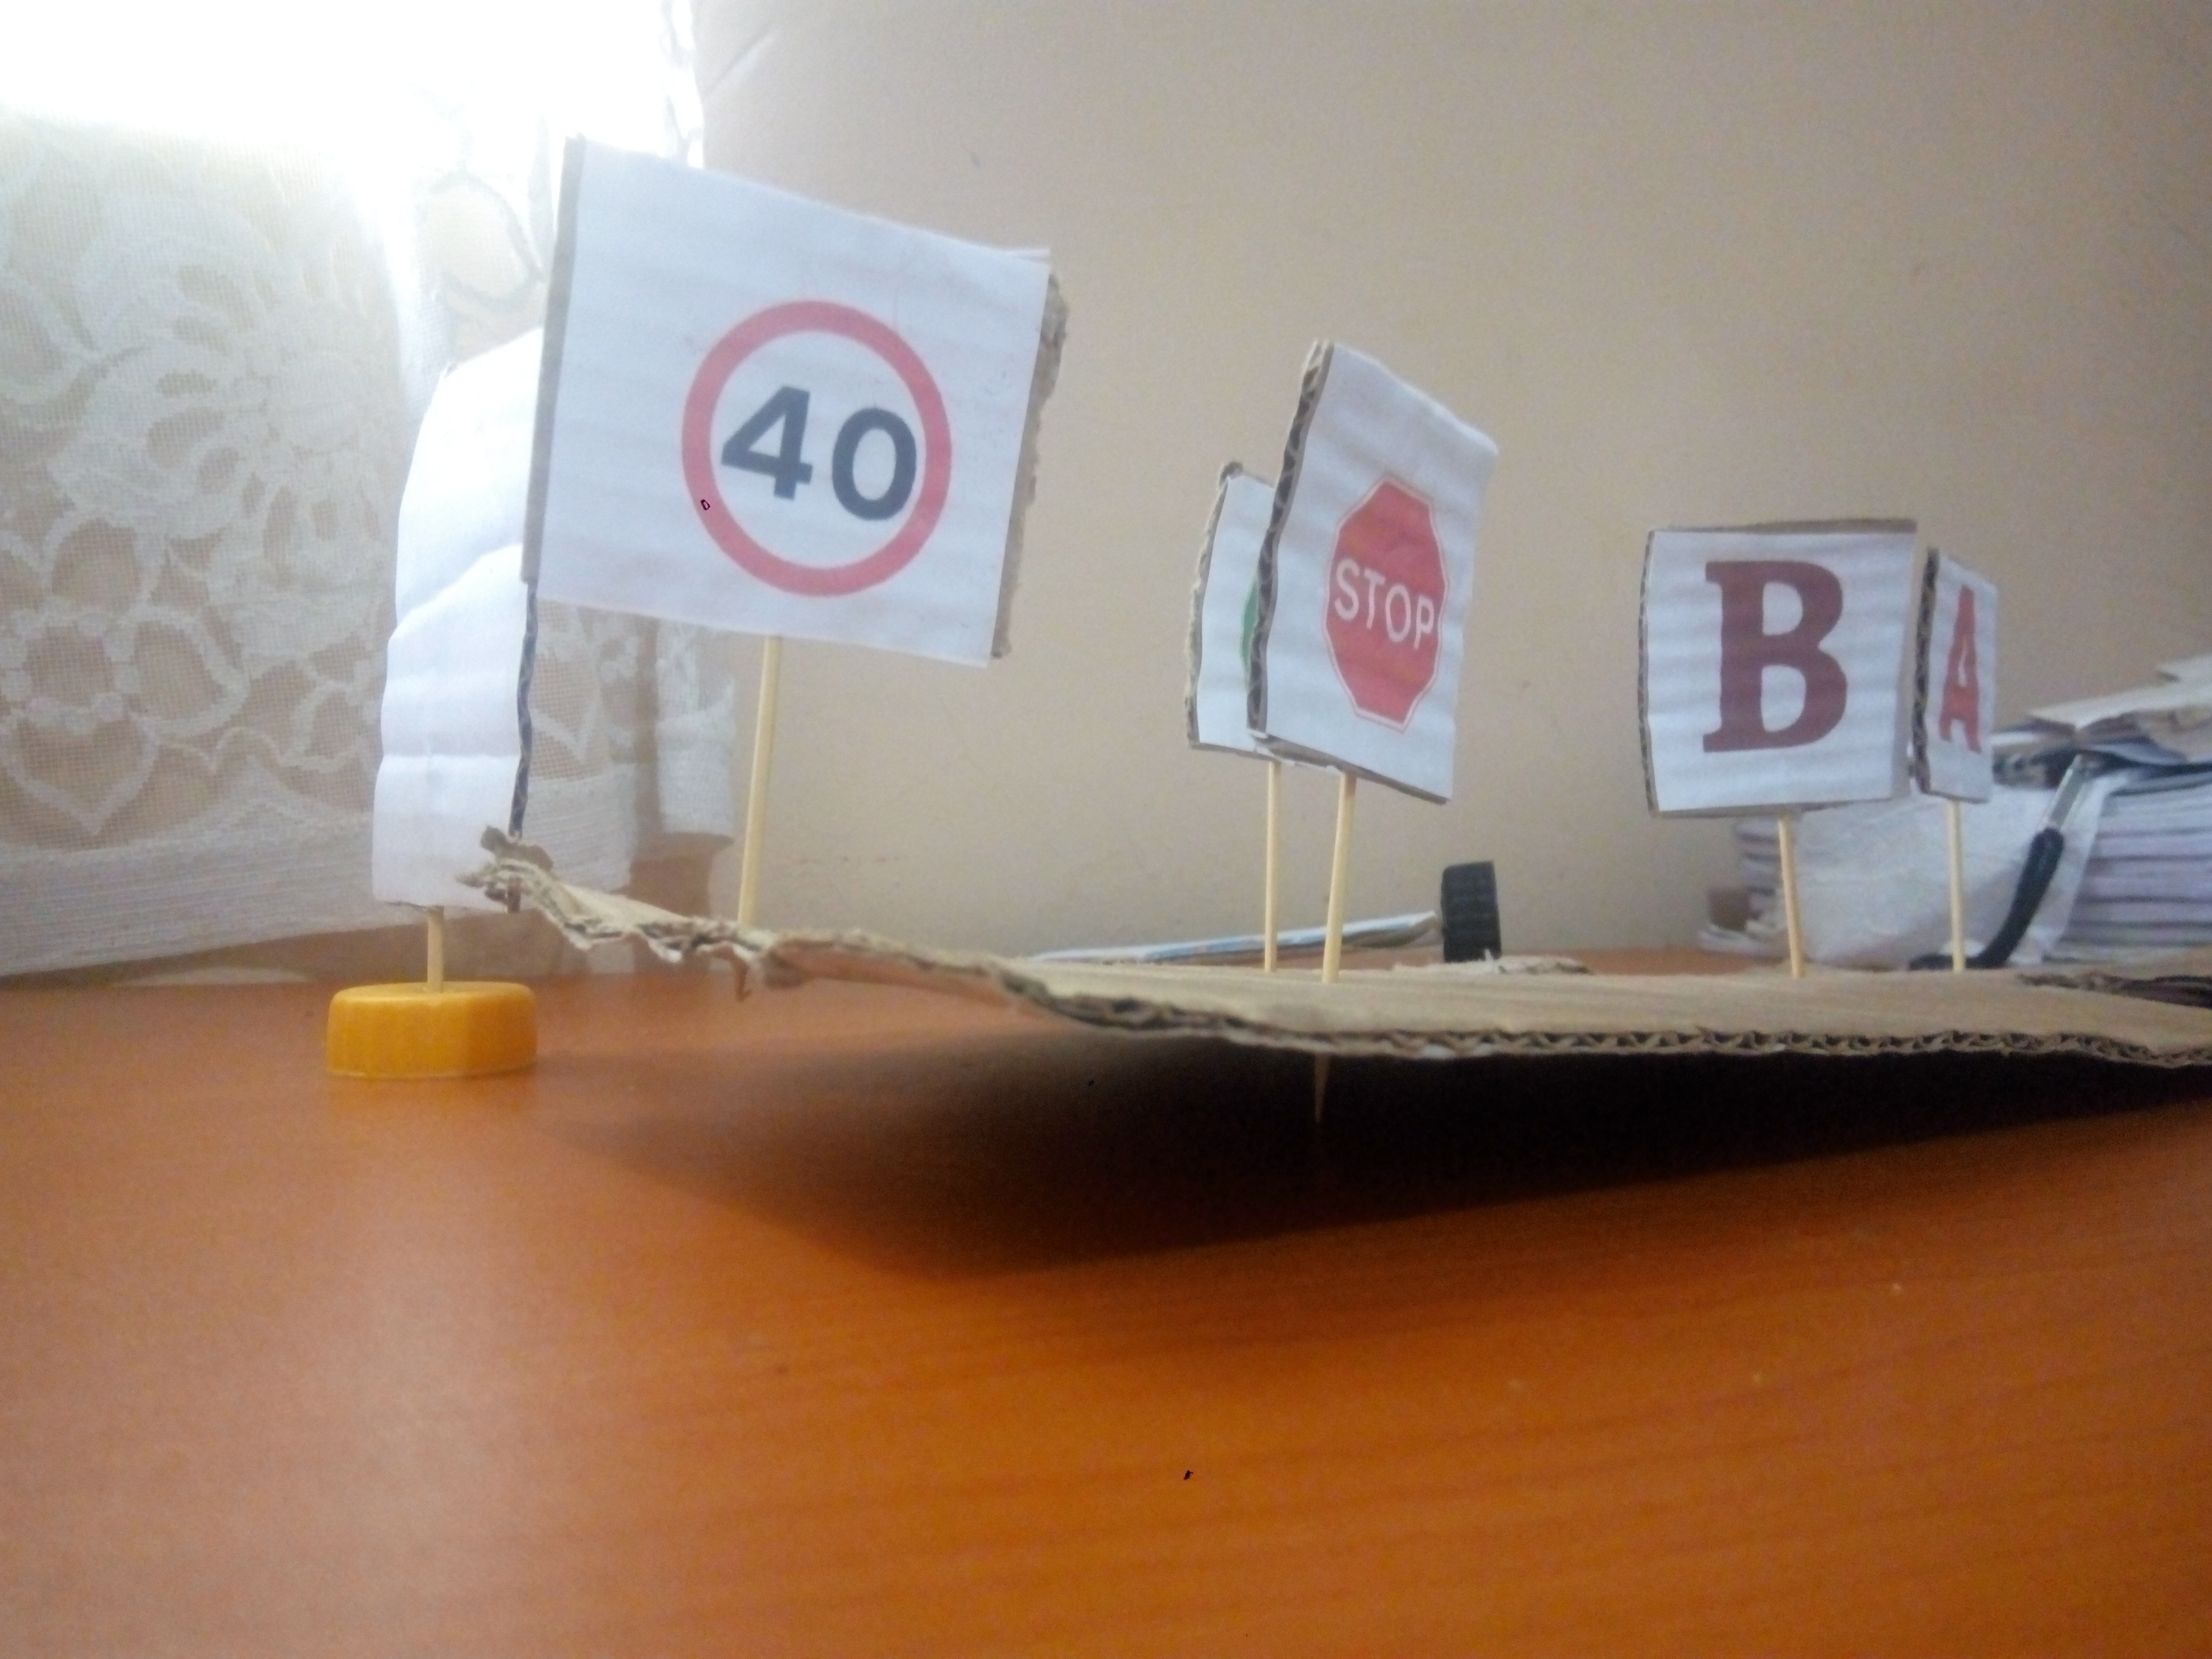40kph: (672, 247, 991, 613)
stop: (1324, 460, 1444, 742)
zone A: (1942, 573, 2005, 807)
zone B: (1705, 547, 1885, 786)
